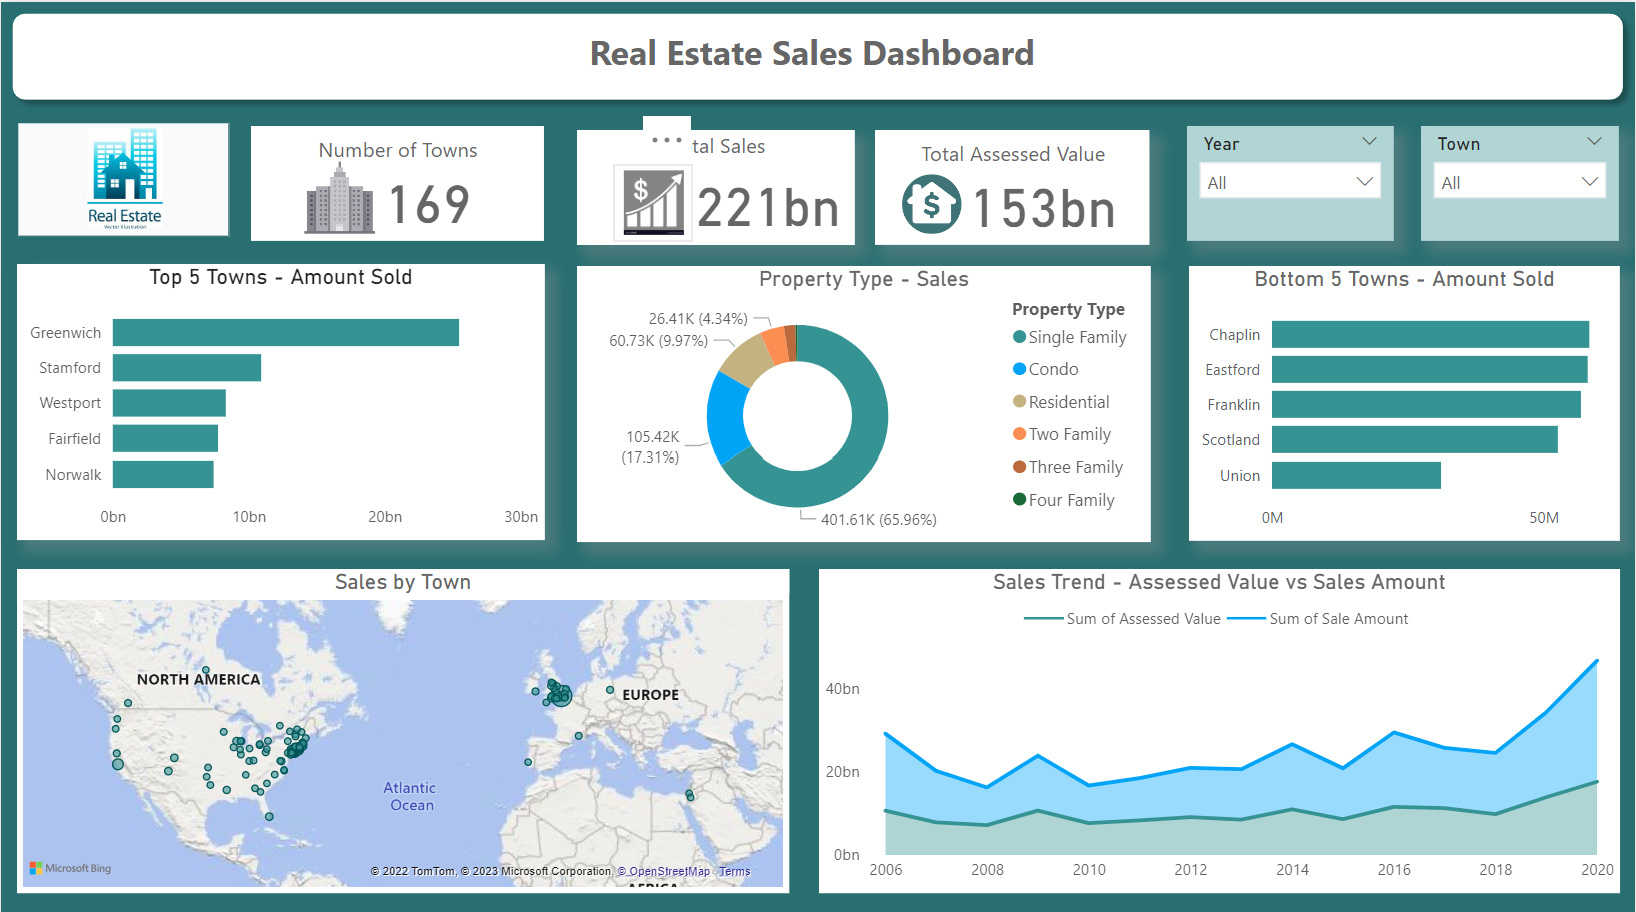

This screenshot's page, from the dashboard's own definition file:
{"tool":"powerbi","page":{"name":"Page 2","canvas":[1280,720],"ordinal":0},"visuals":[{"type":"shape","box":[451.4,98.9,217.2,89.8],"z":0},{"type":"shape","box":[195.7,97.8,229.3,90.2],"z":2000},{"type":"shape","box":[685.3,99.6,214.9,90.1],"z":3000},{"type":"shape","box":[0,0,1279.5,85.6],"z":4000},{"type":"card","fields":{"Values":["Sum(Real_Estate_Sales_2001-2020_GL.Sale Amount)"]},"box":[534.9,129.1,133.7,54.4],"z":5000},{"type":"card","fields":{"Values":["Count(Real_Estate_Sales_2001-2020_GL.Town)"]},"box":[279.9,124.4,107.3,60.6],"z":6000},{"type":"card","fields":{"Values":["Sum(Real_Estate_Sales_2001-2020_GL.Assessed Value)"]},"box":[751.2,125.6,131.7,62.4],"z":7000},{"type":"textbox","box":[205.3,98,211.5,35.8],"z":8000},{"type":"textbox","box":[505.4,94.9,112,35.8],"z":9000},{"type":"image","box":[479,127.5,63.8,60.6],"z":10000},{"type":"textbox","box":[694.9,101.4,194.9,36.4],"z":11000},{"type":"image","box":[688.8,130,79.7,56.3],"z":12000},{"type":"slicer","fields":{"Values":["Real_Estate_Sales_2001-2020_GL.List Year"]},"box":[929.7,97.9,162,90.1],"z":13000},{"type":"slicer","fields":{"Values":["Real_Estate_Sales_2001-2020_GL.Town"]},"box":[1112.5,97.9,155.1,90.1],"z":14000},{"type":"map","title":"Sales by Town","fields":{"Category":["Real_Estate_Sales_2001-2020_GL.Town"],"Size":["Sum(Real_Estate_Sales_2001-2020_GL.Sale Amount)"]},"box":[12.1,442.7,604.8,253.9],"z":15000},{"type":"barChart","title":"Top 5 Towns - Amount Sold","fields":{"Category":["Real_Estate_Sales_2001-2020_GL.Town"],"Y":["Sum(Real_Estate_Sales_2001-2020_GL.Sale Amount)"]},"box":[12.1,204.5,413.3,215.7],"z":16000},{"type":"barChart","title":"Bottom 5 Towns - Amount Sold","fields":{"Y":["Sum(Real_Estate_Sales_2001-2020_GL.Sale Amount)"],"Category":["Real_Estate_Sales_2001-2020_GL.Town"]},"box":[929.9,206.8,337.5,214.6],"z":17000},{"type":"donutChart","title":"Property Type - Sales","fields":{"Category":["Real_Estate_Sales_2001-2020_GL.Property Type"],"Y":["CountNonNull(Real_Estate_Sales_2001-2020_GL.Sale Amount)"]},"box":[450.5,206.2,449.7,215.7],"z":18000},{"type":"stackedAreaChart","title":"Sales Trend - Assessed Value vs Sales Amount","fields":{"Category":["Real_Estate_Sales_2001-2020_GL.List Year"],"Y":["Sum(Real_Estate_Sales_2001-2020_GL.Assessed Value)","Sum(Real_Estate_Sales_2001-2020_GL.Sale Amount)"]},"box":[640.3,442.7,627.3,253.9],"z":19000},{"type":"textbox","box":[356.2,15.3,559.5,53.5],"z":20000},{"type":"image","box":[218.6,119.2,91.7,68.8],"z":21000},{"type":"shape","box":[12.2,94.8,166.6,90.2],"z":22000},{"type":"image","box":[27.5,94.8,137.6,88.7],"z":23000}]}

Visuals, with their boxes in screenshot pixels (x1, y1, x2, y2), scaled from the page's 1280x720 canvas onto the 1636x912 screenshot:
shape: 577 125 855 239
shape: 250 124 543 238
shape: 876 126 1151 240
shape: 0 0 1635 108
card - Sum(Real_Estate_Sales_2001-2020_GL.Sale Amount): 684 164 855 232
card - Count(Real_Estate_Sales_2001-2020_GL.Town): 358 158 495 234
card - Sum(Real_Estate_Sales_2001-2020_GL.Assessed Value): 960 159 1128 238
textbox: 262 124 533 169
textbox: 646 120 789 166
image: 612 162 694 238
textbox: 888 128 1137 175
image: 880 165 982 236
slicer - Real_Estate_Sales_2001-2020_GL.List Year: 1188 124 1395 238
slicer - Real_Estate_Sales_2001-2020_GL.Town: 1422 124 1620 238
"Sales by Town" map: 15 561 788 882
"Top 5 Towns - Amount Sold" barChart: 15 259 544 532
"Bottom 5 Towns - Amount Sold" barChart: 1189 262 1620 534
"Property Type - Sales" donutChart: 576 261 1151 534
"Sales Trend - Assessed Value vs Sales Amount" stackedAreaChart: 818 561 1620 882
textbox: 455 19 1170 87
image: 279 151 397 238
shape: 16 120 229 234
image: 35 120 211 232
